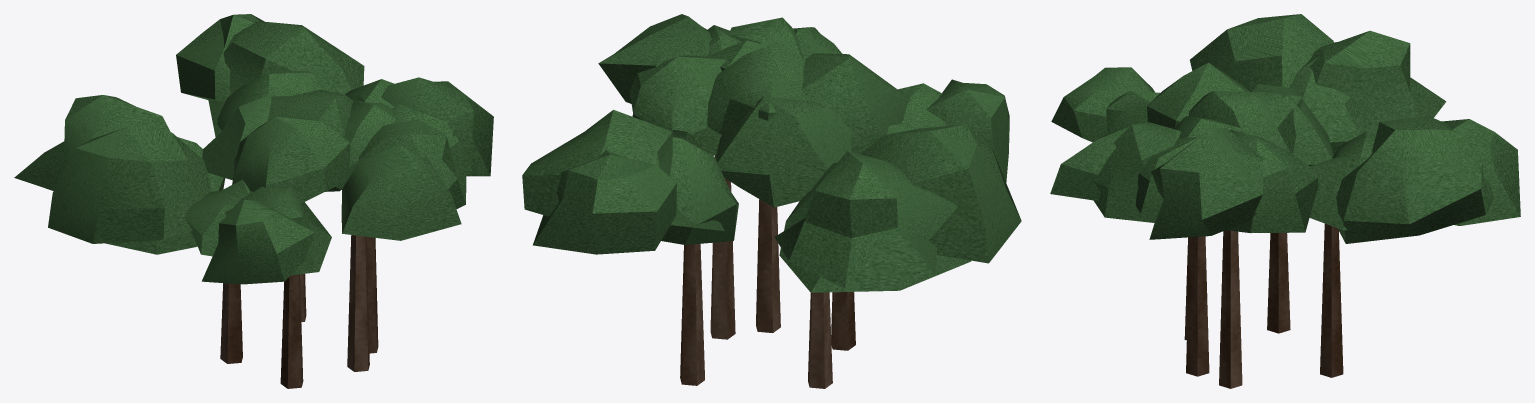
File: shrub_1.glb
The picture shows the model from 3 angles, left to right: view 1: azimuth 30°, elevation 25°; view 2: azimuth 150°, elevation 25°; view 3: azimuth 270°, elevation 25°; orthographic projection. The views are drawn at different scales.
Visible parts, largest first — view 1: shrub_1; view 2: shrub_1; view 3: shrub_1.
Boxes of the visible parts, <box> form: shrub_1: <box>14,14,493,388</box>; shrub_1: <box>522,14,1021,388</box>; shrub_1: <box>1050,14,1520,388</box>.
Bounding box in the file's own units: 2.05 × 1.35 × 2.1.
2 materials, 2 textured.
